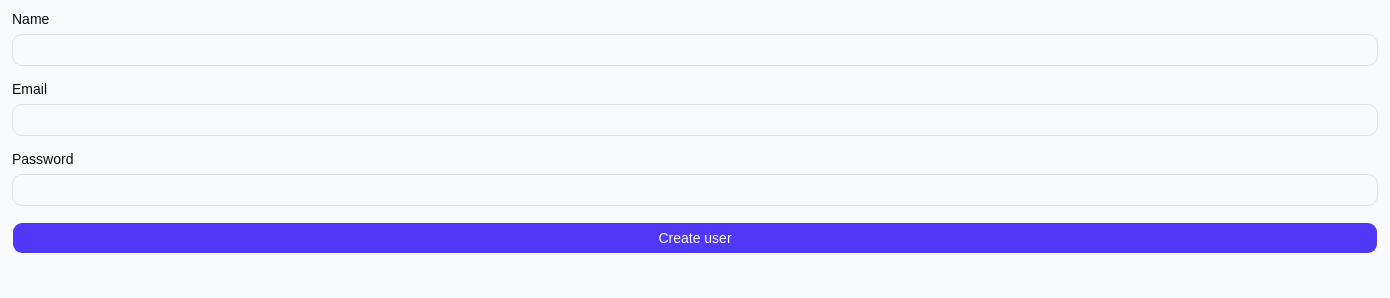
Test case: UserForm › validation › rejects a name shorter than 3 characters
In the field labelled "Name": (695, 50) [12, 34, 1378, 66], type "Al"
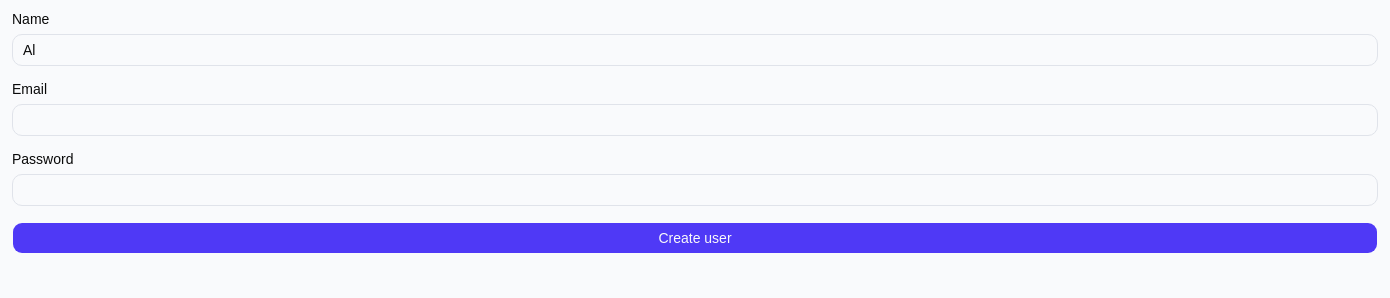
In the field labelled "Email": (695, 120) [12, 104, 1378, 136], type "alice@example.com"
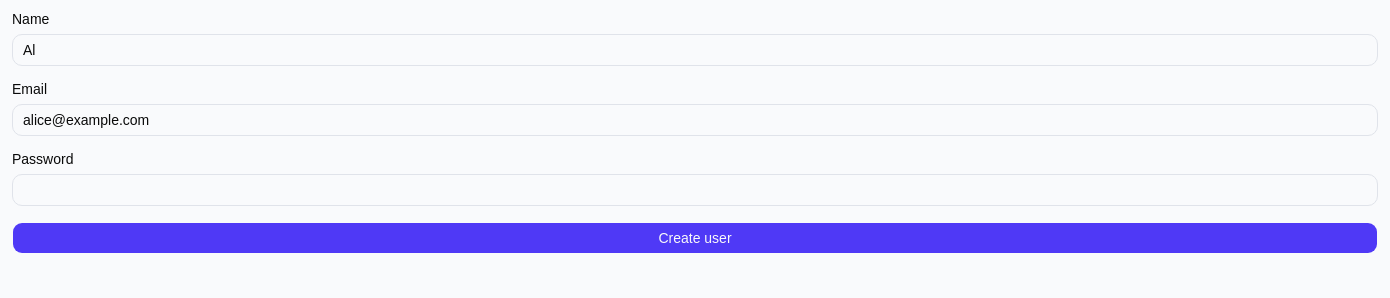
In the password field labelled "Password": (695, 190) [12, 174, 1378, 206], type "password"
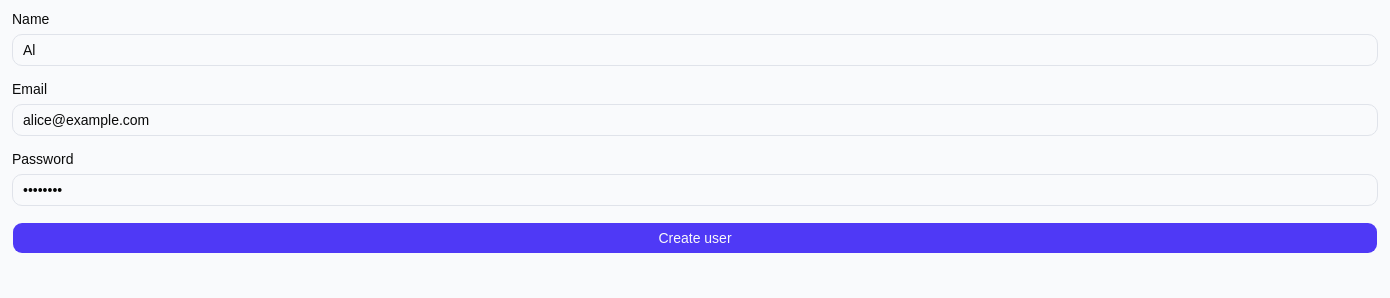
Click the button "Create user": (695, 238) [12, 222, 1378, 254]
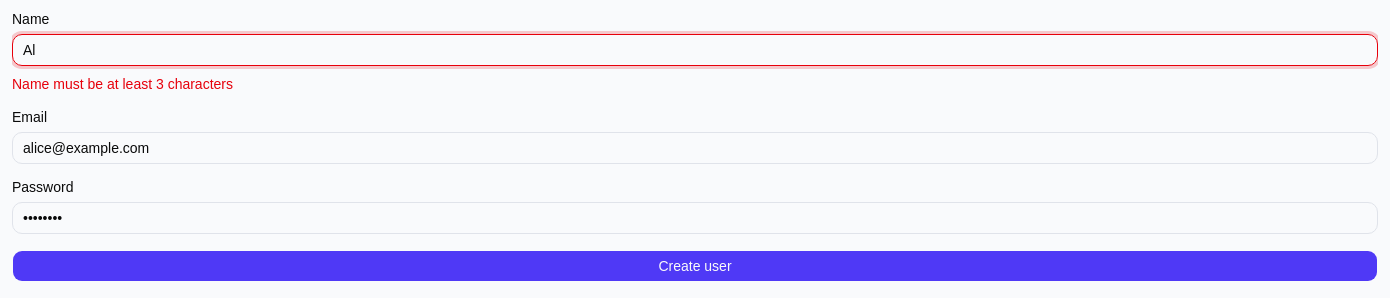
Now the text "Name must be at least 3 characters" is shown, box [12, 76, 233, 92]
